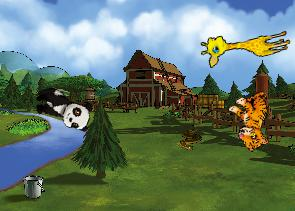giraffe: (198, 19, 292, 69)
panda: (29, 83, 96, 134)
tiger: (221, 85, 286, 154)
